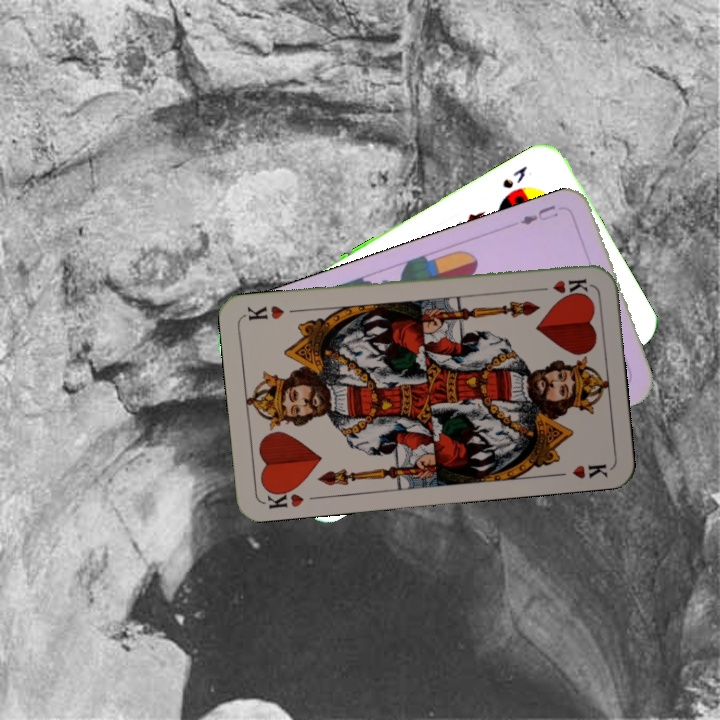EU: (516, 201, 561, 228)
HK: (532, 275, 591, 298), (262, 483, 306, 511)
SK: (498, 161, 530, 191)
